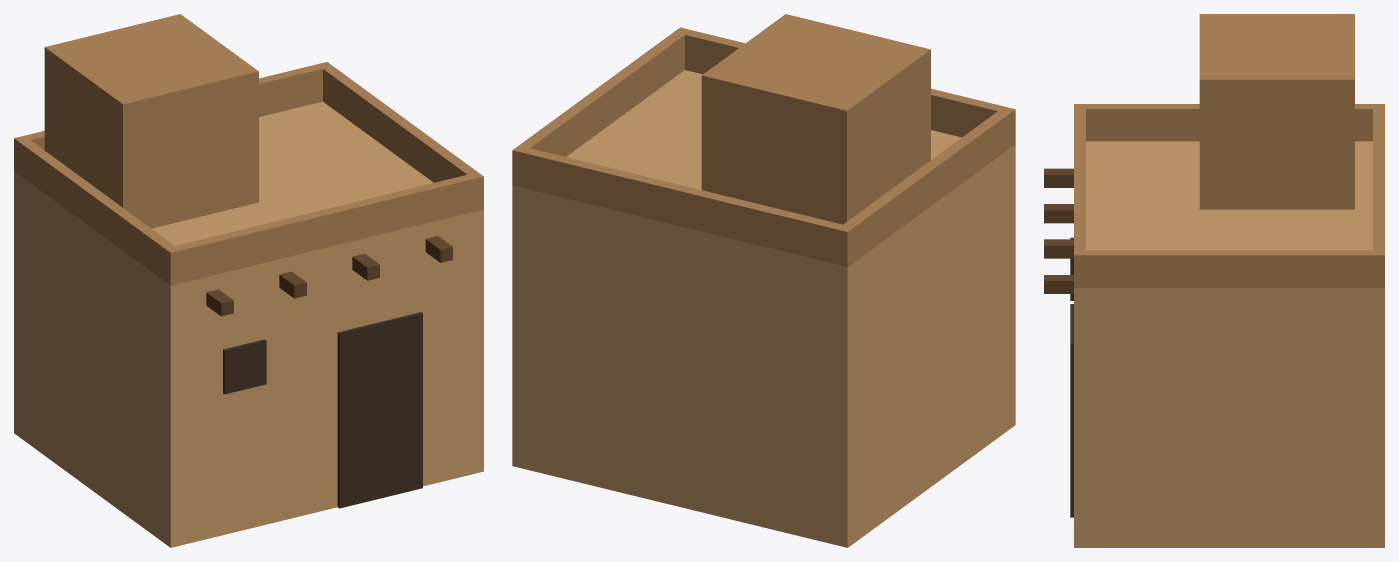
Rendered from clay_house.glb.
The picture shows the model from 3 angles, left to right: view 1: azimuth 30°, elevation 25°; view 2: azimuth 150°, elevation 25°; view 3: azimuth 270°, elevation 25°; orthographic projection. The views are drawn at different scales.
Parts seen in each view (by area): view 1: clay_house2; view 2: clay_house2; view 3: clay_house2.
Part boxes in pixels (bbox=[...]): clay_house2: bbox=[14, 14, 483, 547]; clay_house2: bbox=[512, 14, 1015, 547]; clay_house2: bbox=[1044, 14, 1384, 547].
Bounding box in the file's own units: 3 × 3.6 × 2.85.
